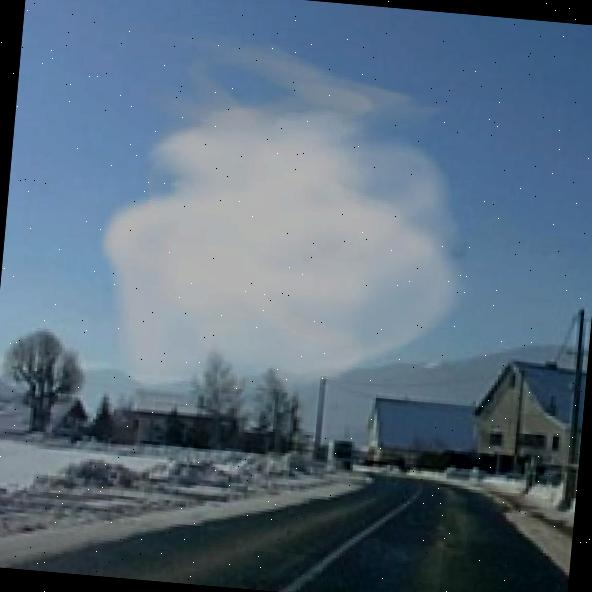smoke: (84, 19, 495, 422)
